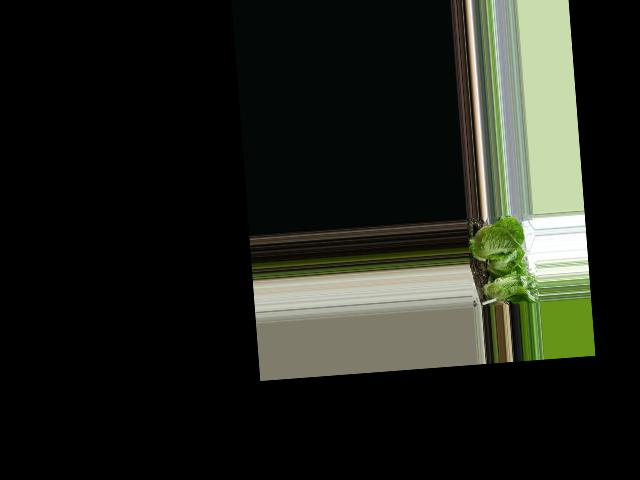lettuce: (475, 269, 534, 303)
